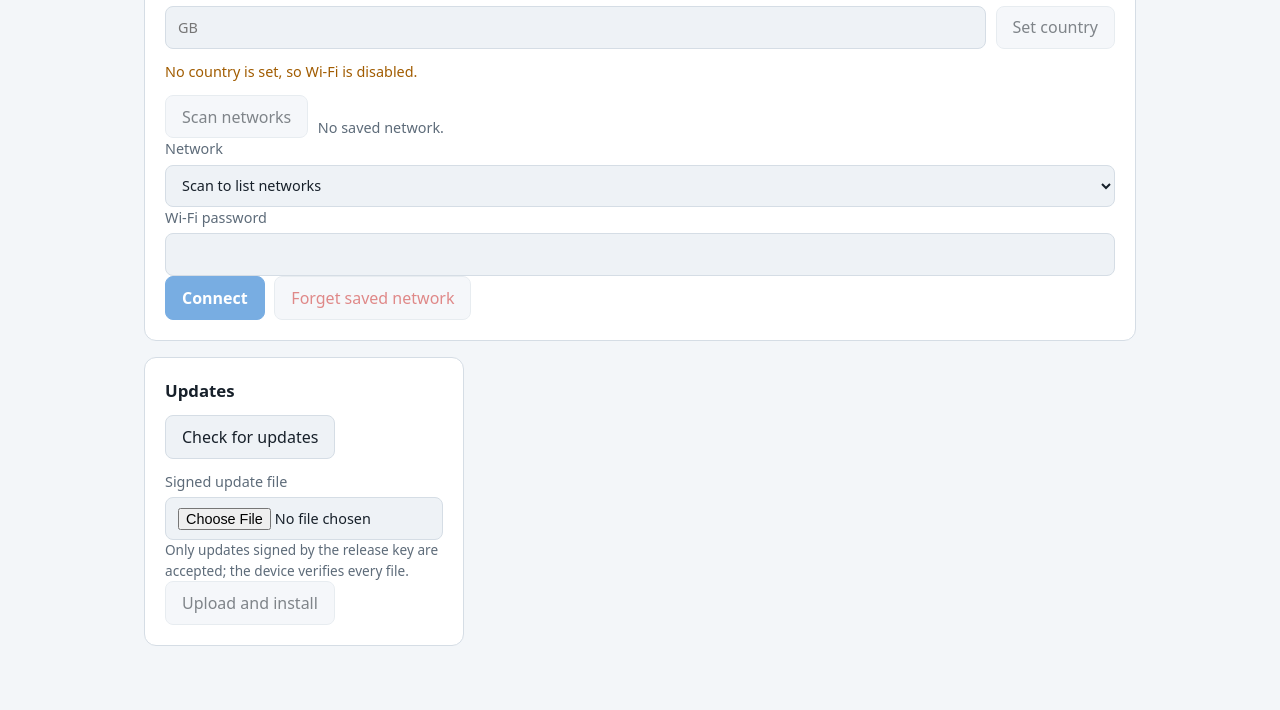
Scenario: checking for updates offers and installs a newer release
(page scrolled)
Click the button "Check for updates" at (250, 437), box [165,415,335,458]
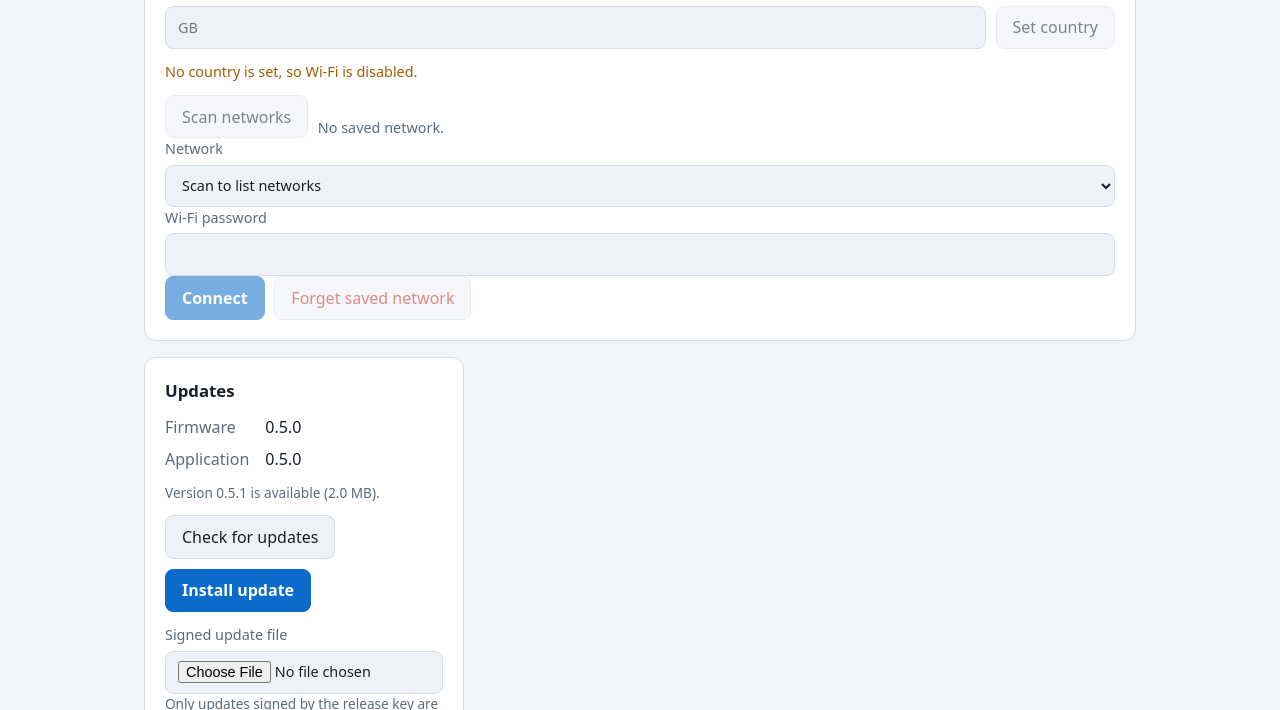
Now the text "Version 0.5.1 is available (2.0 MB)." is shown, box [165,483,380,502]
Click the button "Install update" at (238, 590), box [165,568,311,612]
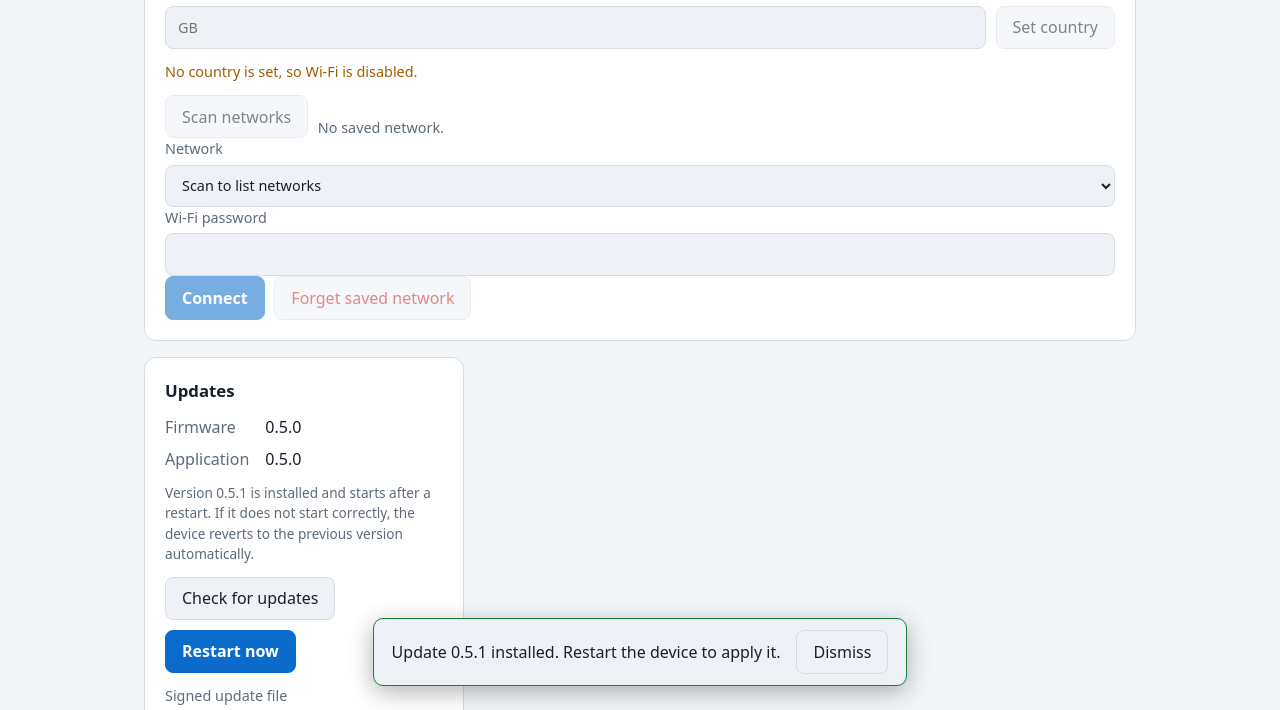
Now the text "Update 0.5.1 installed. Restart the device to apply it. Dismiss" is shown, box [373,618,907,686]
Now the button "Restart now" is shown, box [165,630,296,673]
